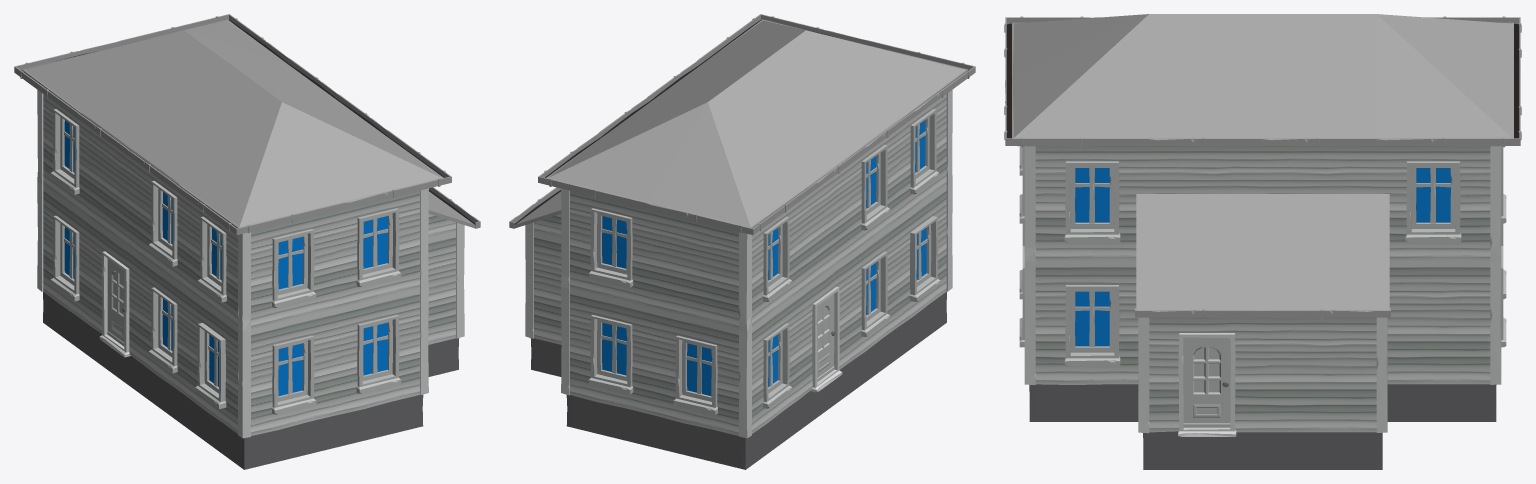
The model's file is SM_Bld_House_Preset_09.fbx.
3 renders of one model, left to right at view 1: azimuth 30°, elevation 25°; view 2: azimuth 150°, elevation 25°; view 3: azimuth 270°, elevation 25°, orthographic. The views are drawn at different scales.
Visible parts, largest first — view 1: SM_Bld_House_Preset_09; view 2: SM_Bld_House_Preset_09; view 3: SM_Bld_House_Preset_09.
Part boxes in pixels (x1,y1,x2,y2): SM_Bld_House_Preset_09: (14, 14, 480, 469); SM_Bld_House_Preset_09: (509, 14, 975, 469); SM_Bld_House_Preset_09: (1004, 14, 1521, 469).
Bounding box in the file's own units: 887 × 867 × 1137.
